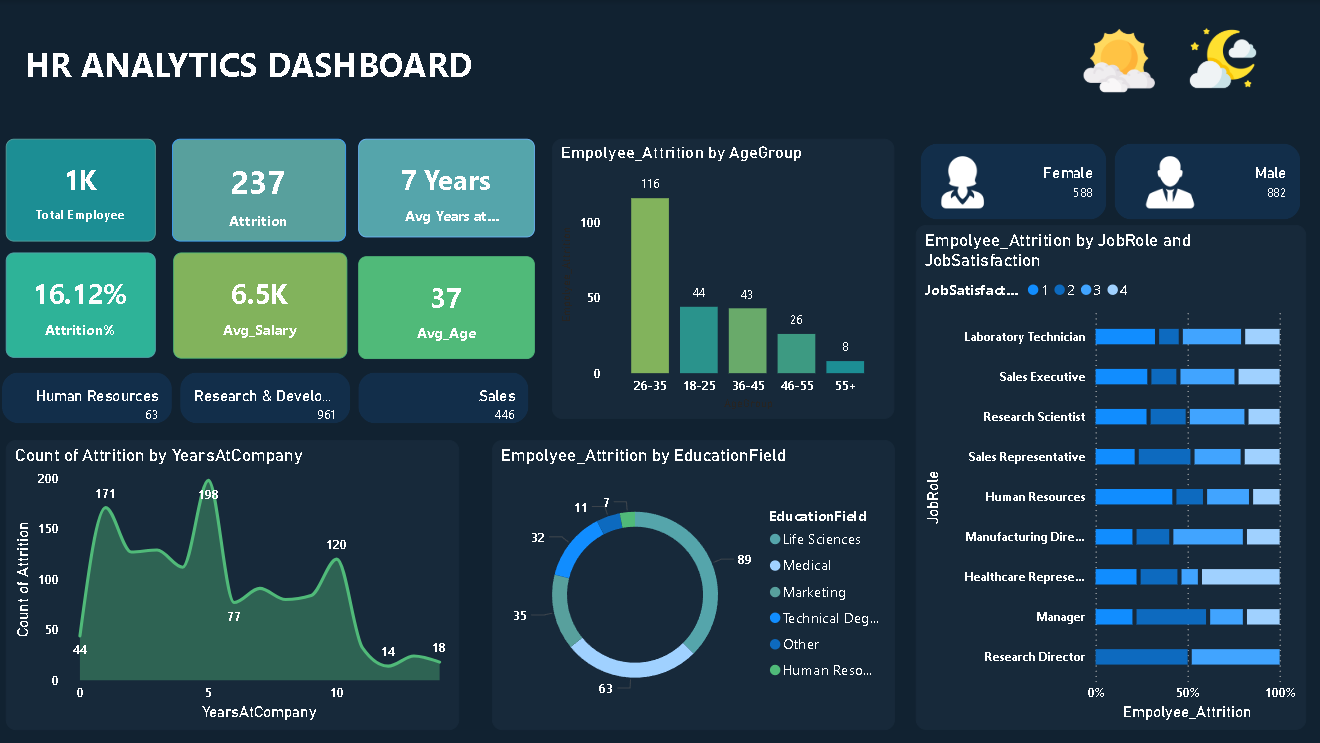

The page's visual inventory and layout, read from the dashboard file:
{"tool":"powerbi","page":{"name":"Page 1","canvas":[1280,720],"ordinal":0},"visuals":[{"type":"cardVisual","fields":{"Data":["HR_Analytics.Empolyee_Attrition"]},"box":[169.1,133.5,167.8,99.2],"z":0},{"type":"cardVisual","fields":{"Data":["HR_Analytics.Employee_Count"]},"box":[8.6,133.5,144.6,99.2],"z":1000},{"type":"cardVisual","fields":{"Data":["HR_Analytics.Years_With_Text"]},"box":[348.7,133.9,170.1,95.3],"z":2000},{"type":"cardVisual","fields":{"Data":["HR_Analytics.Attrition%"]},"box":[8.4,243.7,144.8,101.3],"z":3000},{"type":"cardVisual","fields":{"Data":["HR_Analytics.Avg_Salary"]},"box":[170.1,243.7,167.7,102.5],"z":4000},{"type":"cardVisual","fields":{"Data":["HR_Analytics.Avg_Age"]},"box":[348.7,247.3,170.1,98.9],"z":5000},{"type":"areaChart","fields":{"Category":["HR_Analytics.YearsAtCompany"],"Y":["CountNonNull(HR_Analytics.Attrition)"]},"box":[8.4,424.7,437.9,279.9],"z":6000},{"type":"donutChart","fields":{"Y":["HR_Analytics.Empolyee_Attrition"],"Category":["HR_Analytics.EducationField"]},"box":[477.8,424.7,388.5,279.9],"z":7000},{"type":"clusteredColumnChart","fields":{"Category":["HR_Analytics.AgeGroup"],"Y":["HR_Analytics.Empolyee_Attrition"]},"box":[535.7,133.9,330.6,270.2],"z":8000},{"type":"hundredPercentStackedBarChart","fields":{"Y":["HR_Analytics.Empolyee_Attrition"],"Series":["HR_Analytics.JobSatisfaction"],"Category":["HR_Analytics.JobRole"]},"box":[886.7,217.2,376.4,487.4],"z":9000},{"type":"advancedSlicerVisual","fields":{"Values":["HR_Analytics.Gender"]},"box":[886.7,133.9,376.4,83.2],"z":10000},{"type":"image","box":[1087,146,90.5,60.3],"z":11000},{"type":"image","box":[886.7,146,90.5,60.3],"z":12000},{"type":"advancedSlicerVisual","fields":{"Values":["HR_Analytics.Department"]},"box":[0,354.7,518.8,59.1],"z":13000},{"type":"textbox","box":[21.8,35.1,652.2,62.9],"z":13001},{"type":"image","box":[1032.2,19.4,100.4,78.7],"z":13002},{"type":"image","box":[1139.9,19.4,85.9,73.8],"z":13003}]}

Visuals, with their boxes in screenshot pixels (x1, y1, x2, y2), scaled from the page's 1280x720 canvas onto the 1320x743 screenshot:
cardVisual - HR_Analytics.Empolyee_Attrition: select_region(174, 138, 347, 240)
cardVisual - HR_Analytics.Employee_Count: select_region(9, 138, 158, 240)
cardVisual - HR_Analytics.Years_With_Text: select_region(360, 138, 535, 237)
cardVisual - HR_Analytics.Attrition%: select_region(9, 251, 158, 356)
cardVisual - HR_Analytics.Avg_Salary: select_region(175, 251, 348, 357)
cardVisual - HR_Analytics.Avg_Age: select_region(360, 255, 535, 357)
areaChart - HR_Analytics.YearsAtCompany x CountNonNull(HR_Analytics.Attrition): select_region(9, 438, 460, 727)
donutChart - HR_Analytics.Empolyee_Attrition x HR_Analytics.EducationField: select_region(493, 438, 893, 727)
clusteredColumnChart - HR_Analytics.AgeGroup x HR_Analytics.Empolyee_Attrition: select_region(552, 138, 893, 417)
hundredPercentStackedBarChart - HR_Analytics.Empolyee_Attrition x HR_Analytics.JobSatisfaction: select_region(914, 224, 1303, 727)
advancedSlicerVisual - HR_Analytics.Gender: select_region(914, 138, 1303, 224)
image: select_region(1121, 151, 1214, 213)
image: select_region(914, 151, 1008, 213)
advancedSlicerVisual - HR_Analytics.Department: select_region(0, 366, 535, 427)
textbox: select_region(22, 36, 695, 101)
image: select_region(1064, 20, 1168, 101)
image: select_region(1176, 20, 1264, 96)
